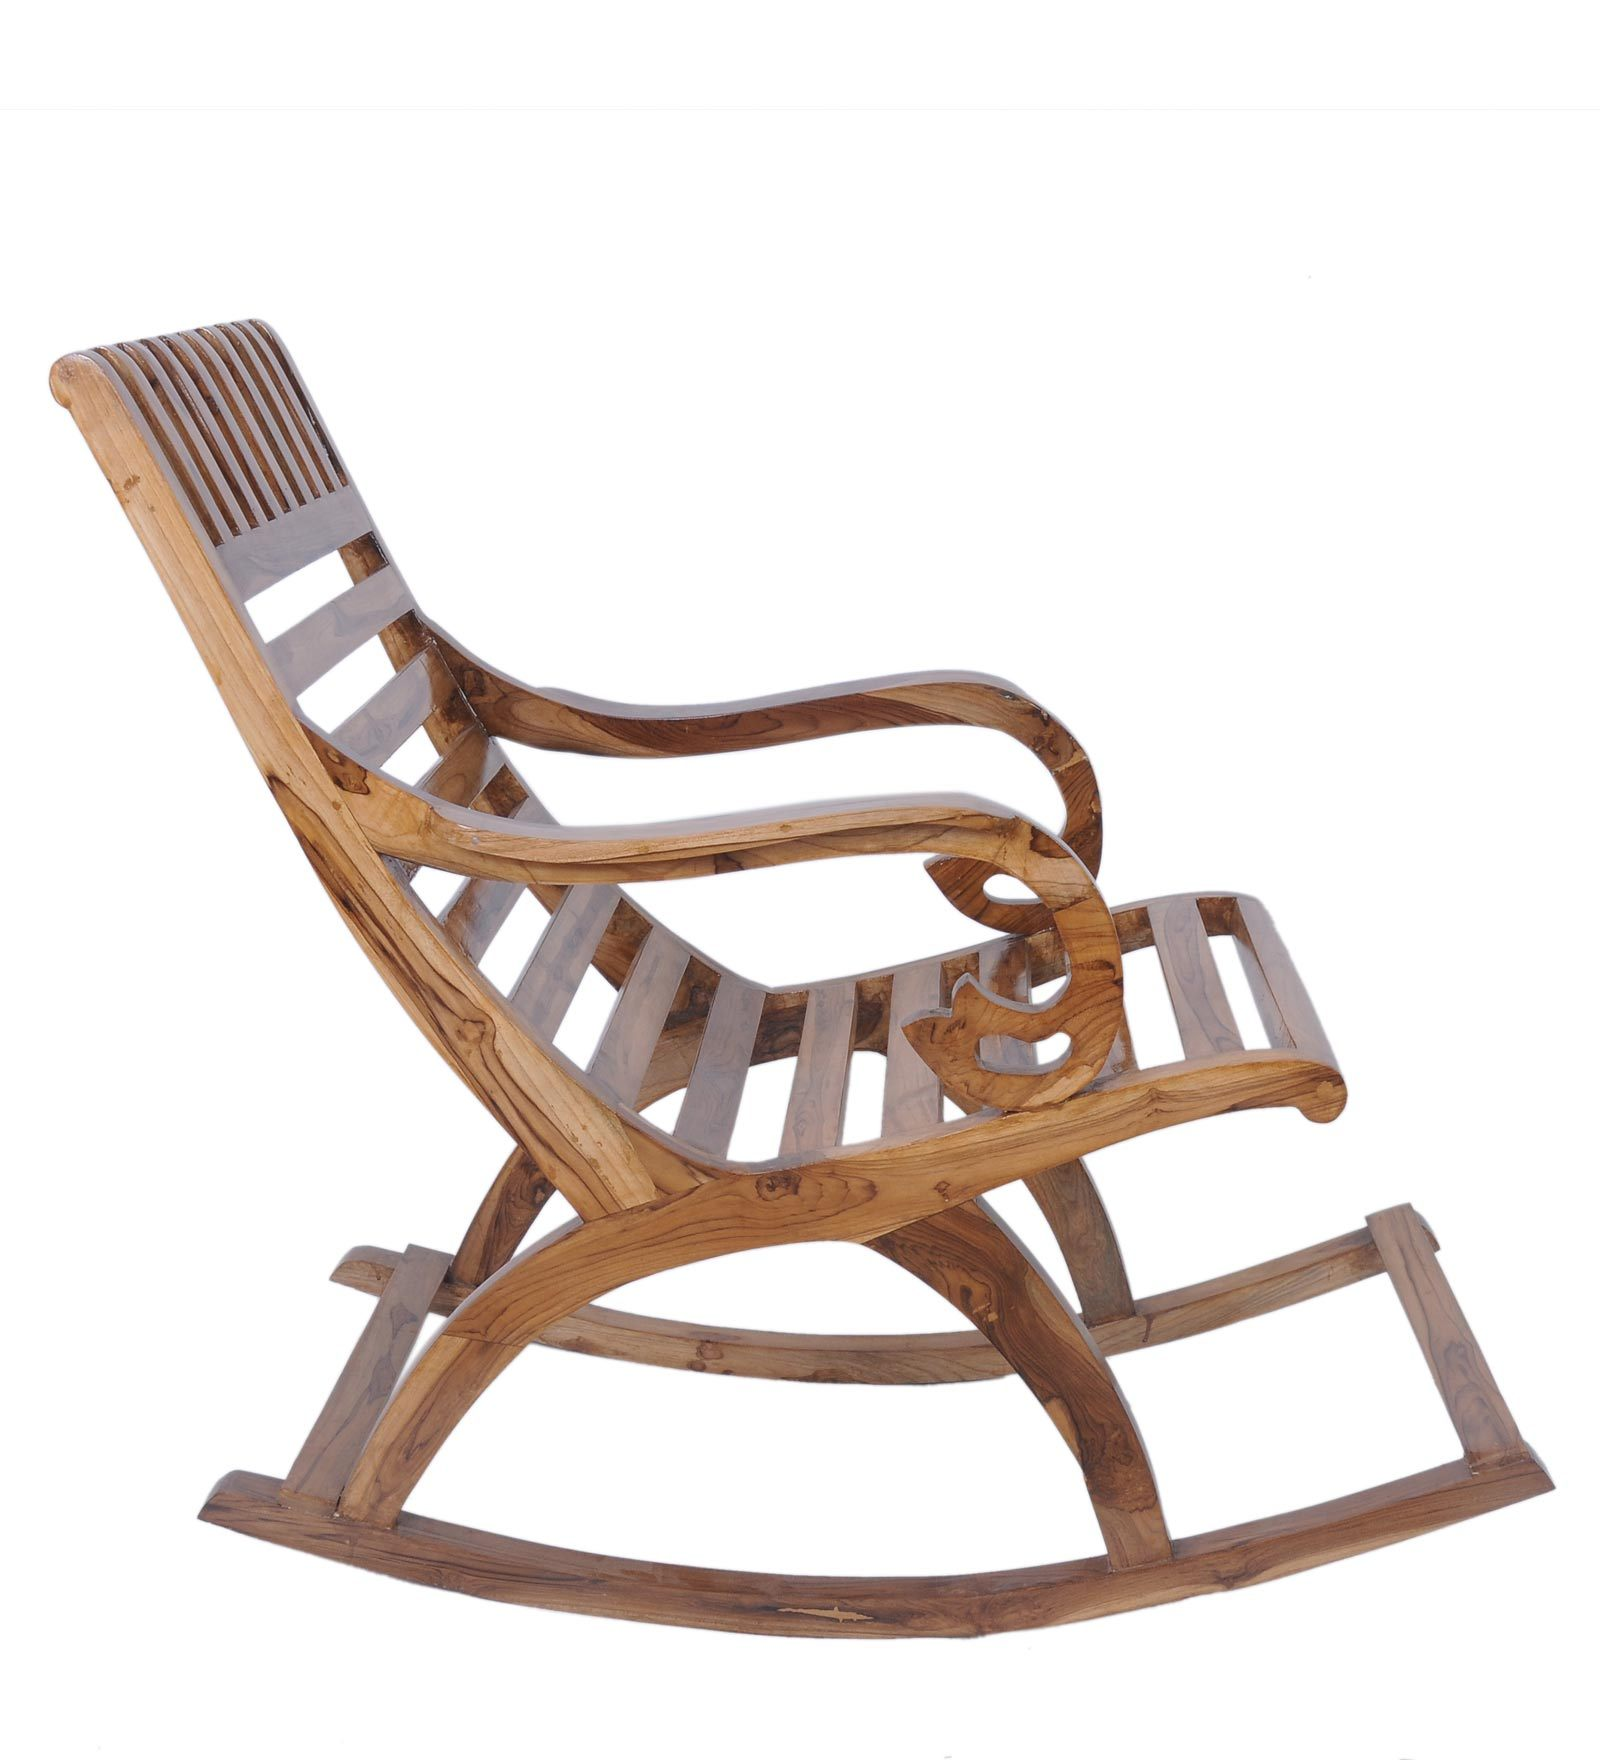Teak Wood Rocking Chair in Light Teak Finish by Karigar: (40, 281, 1583, 1693)
